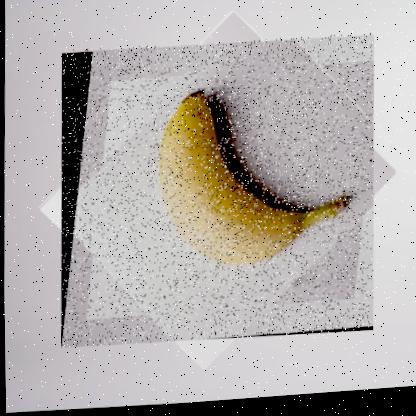banana: (55, 30, 377, 352)
